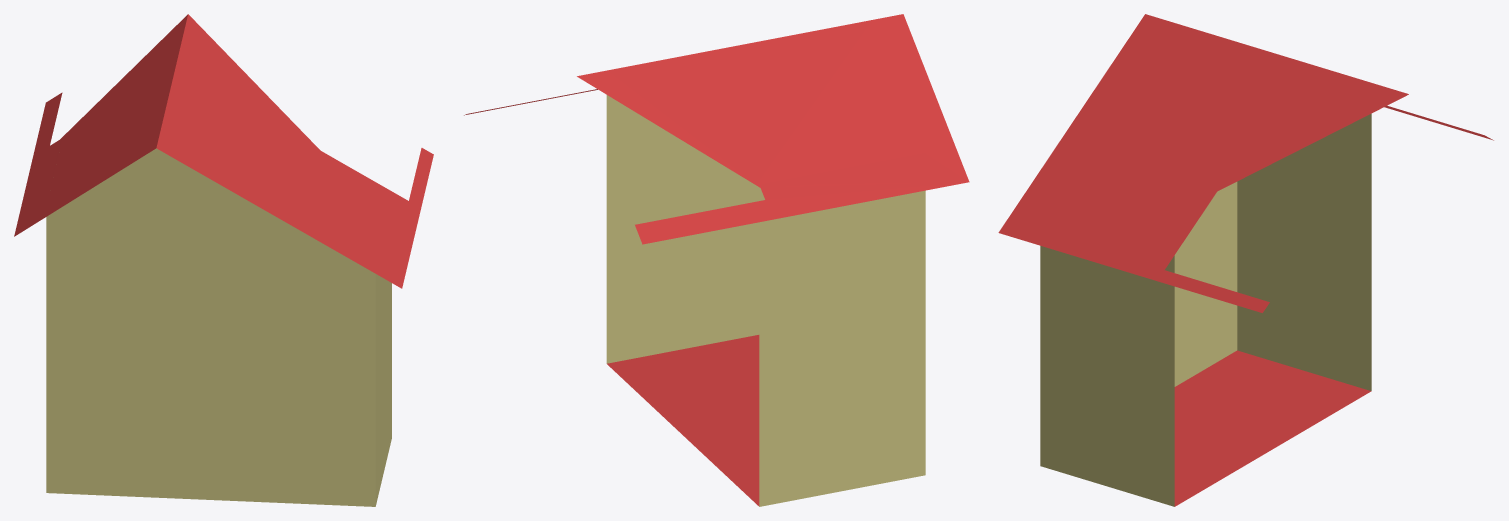
3 views of the same model, side by side, from view 1: azimuth 30°, elevation 25°; view 2: azimuth 150°, elevation 25°; view 3: azimuth 270°, elevation 25° (orthographic). The views are drawn at different scales.
Bounding box in the file's own units: 12.79 × 12.38 × 10.15.
